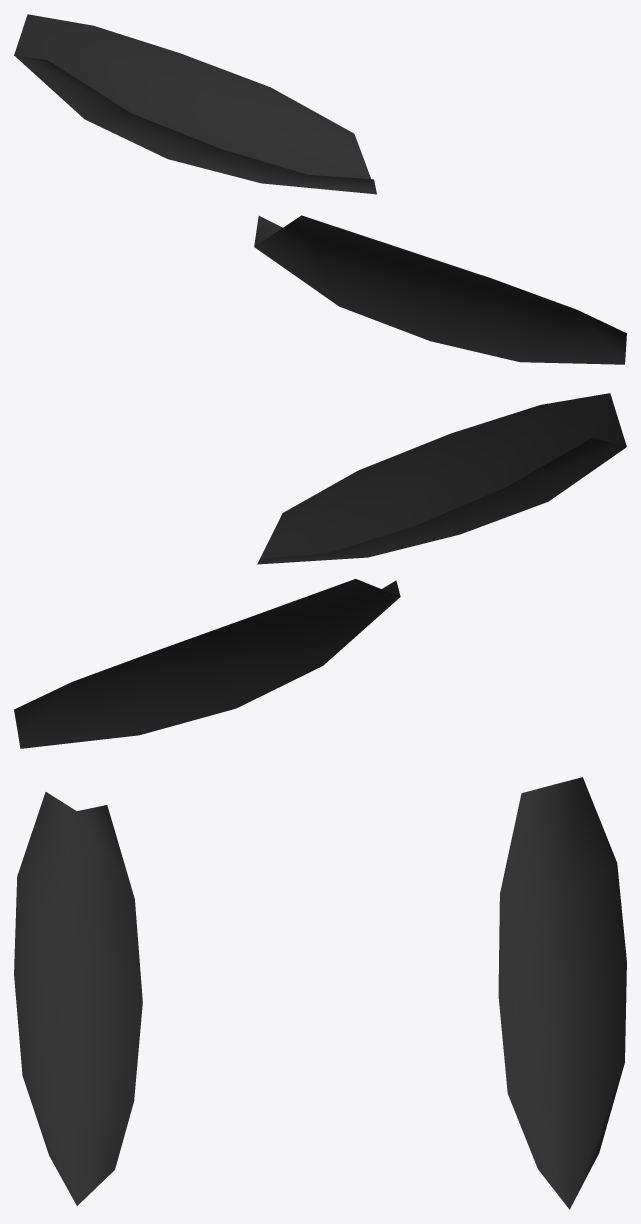
Rendered from Eyes.obj.
3 renders of one model, top to bottom at view 1: azimuth 30°, elevation 25°; view 2: azimuth 150°, elevation 25°; view 3: azimuth 270°, elevation 25°, orthographic.
Size of the model in its own units: 3.19 by 2.09 by 4.42.
Materials: 1 (1 with a texture image).
